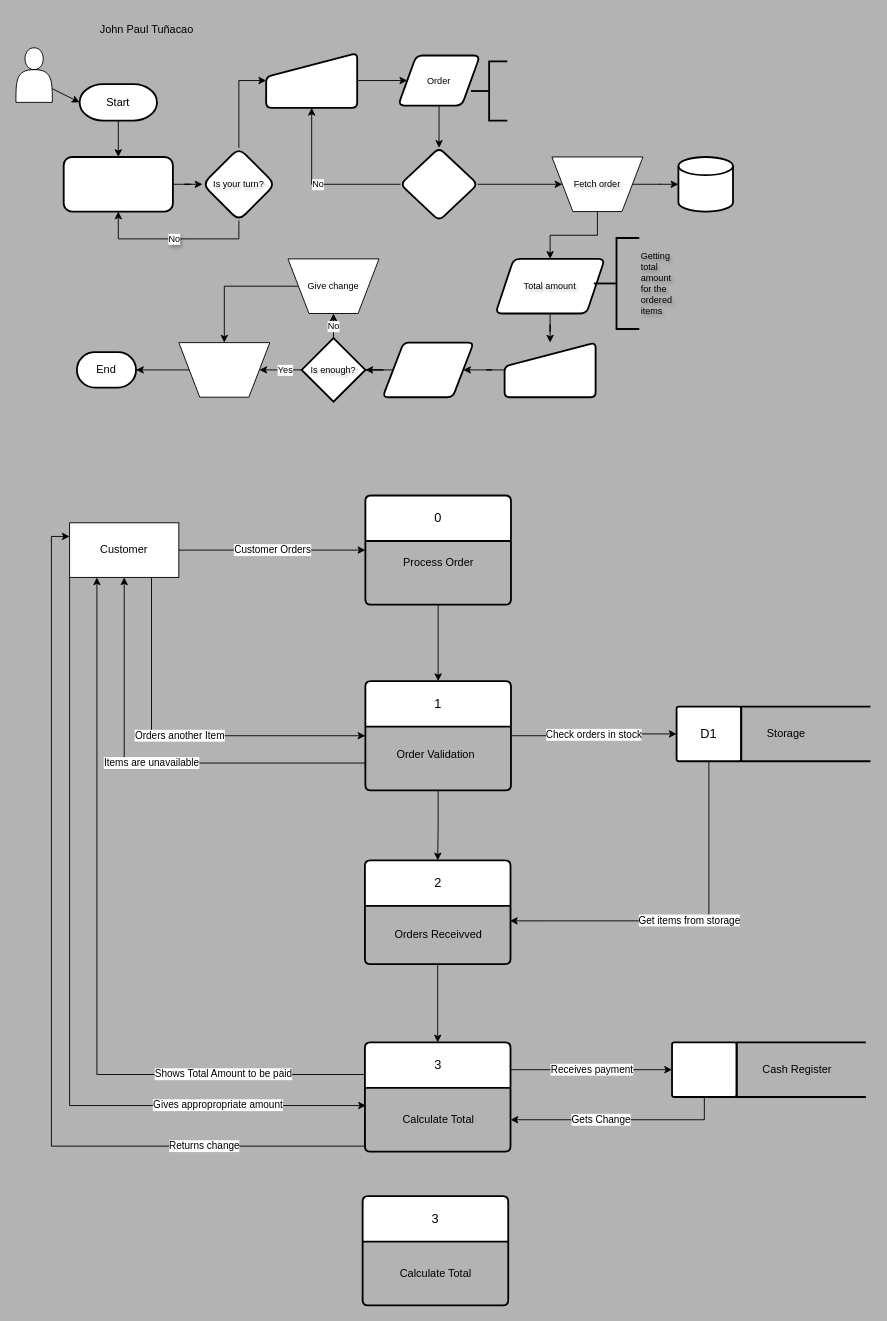
Some shapes in this 887 by 1321 pixel diagram are drawn without their labels. Here are the shapes that lost their labels. From the top down, the centre of each, then its label:
the point at 311,80: Get order
the point at 489,90: Getting order data
the point at 117,184: Queue
the point at 438,184: Done ordering?
the point at 705,184: Item storage
the point at 224,369: Release Order
the point at 427,369: Amount
the point at 549,369: Payment
the point at 704,1069: D2
